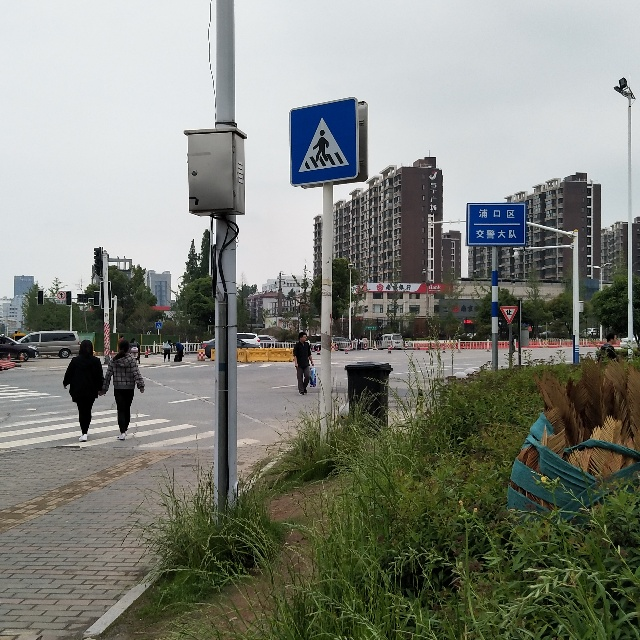crosswalk: (289, 98, 361, 187)
